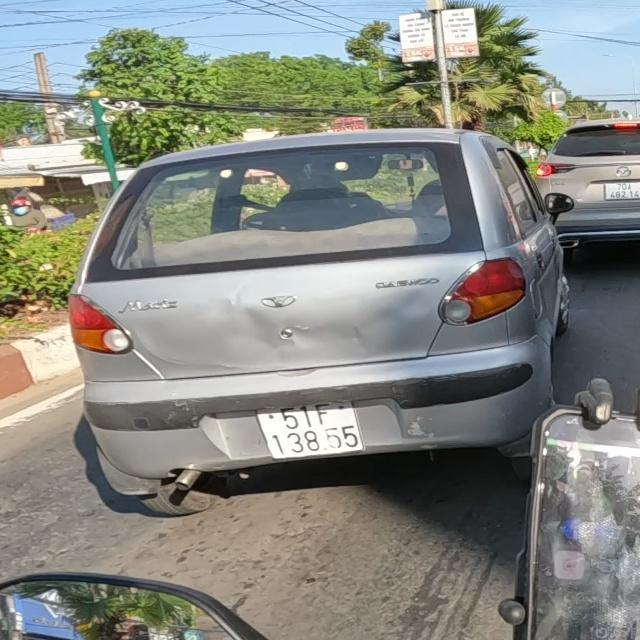car: (66, 125, 578, 521), (538, 113, 640, 254)
plate: (244, 397, 368, 463), (600, 180, 640, 204)
